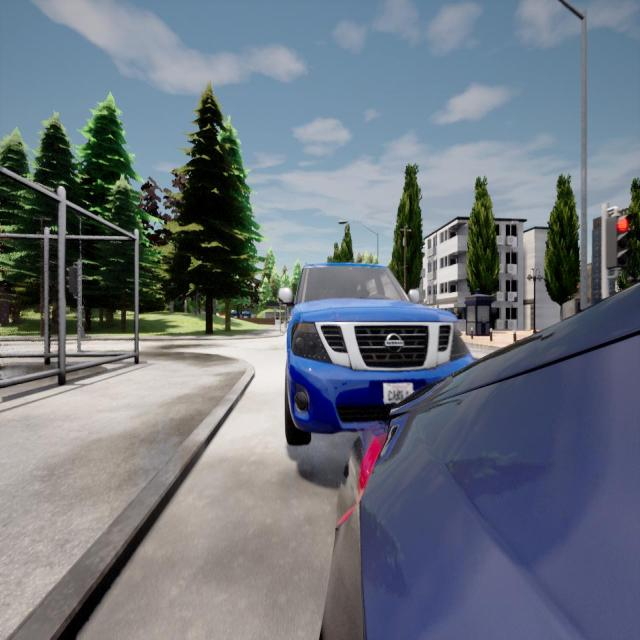Vehicle: (322, 287, 640, 640), (286, 263, 470, 444)
traffic_light: (606, 217, 628, 269), (66, 266, 77, 292)
